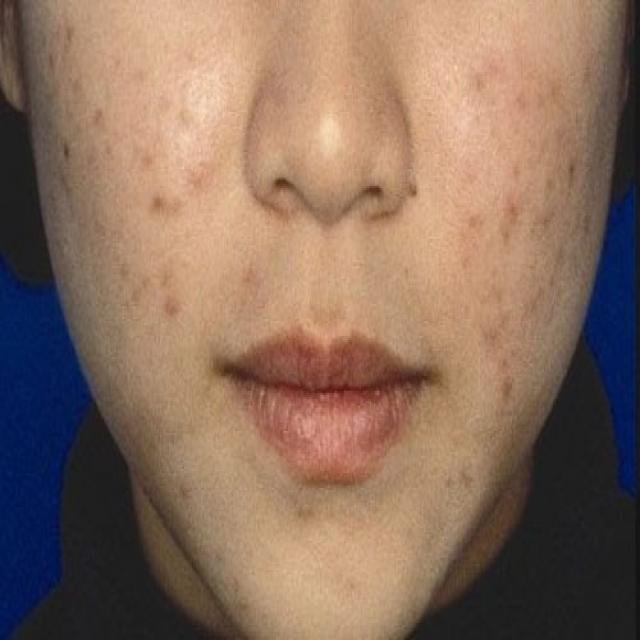Acne: (78, 83, 272, 355), (457, 35, 578, 408)
